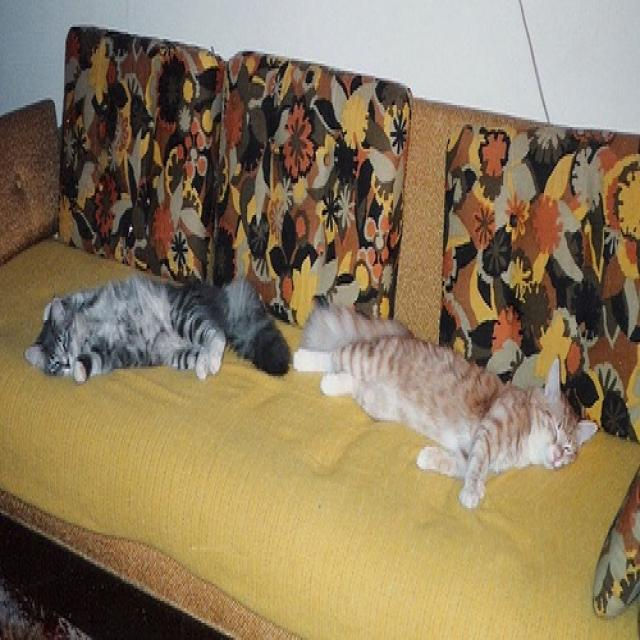cat: (292, 298, 598, 513), (23, 271, 289, 379)
sofa: (1, 25, 639, 638)
